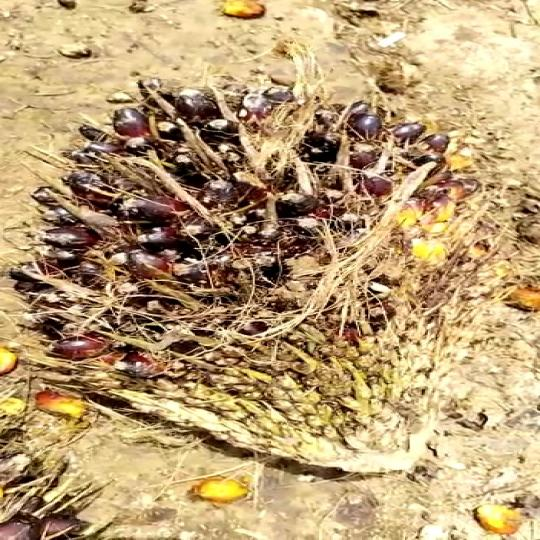mentah: (7, 73, 457, 494)
